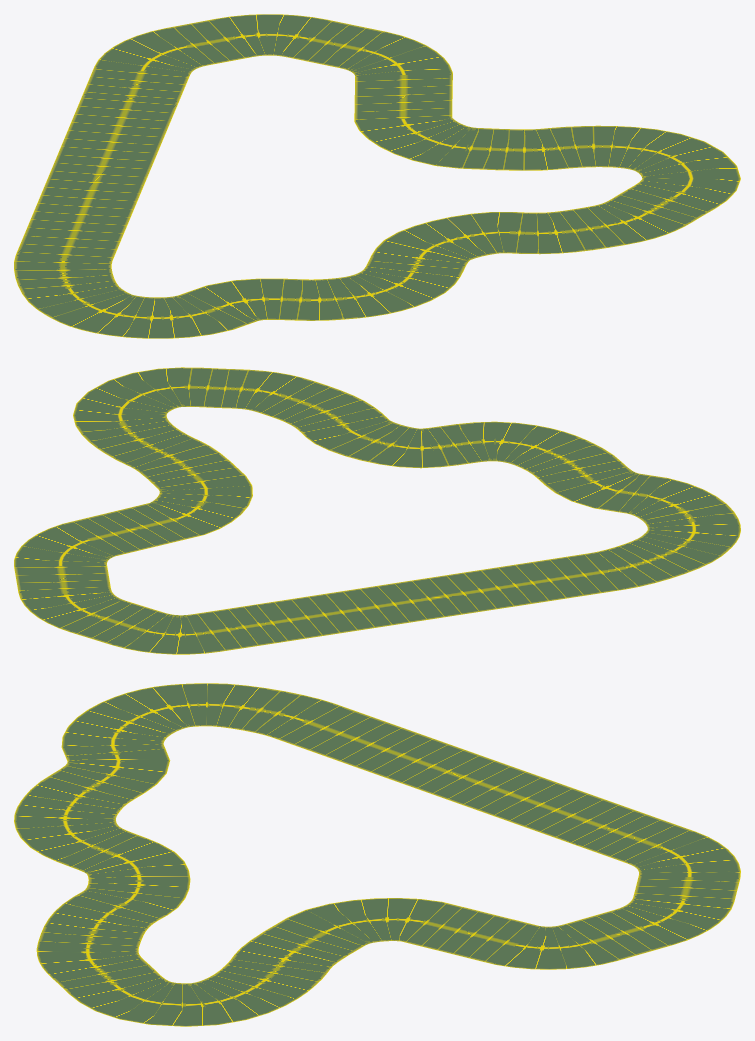
File: rc_04_grd_sdpz.FBX
3 views of the same model, one above another, from view 1: azimuth 30°, elevation 25°; view 2: azimuth 150°, elevation 25°; view 3: azimuth 270°, elevation 25° (orthographic). The views are drawn at different scales.
Visible parts, largest first — view 1: 图形001; view 2: 图形001; view 3: 图形001.
Boxes of the visible parts, x1=… form: 图形001: x1=14, y1=14, x2=740, y2=338; 图形001: x1=14, y1=367, x2=740, y2=654; 图形001: x1=14, y1=683, x2=740, y2=1026.
Bounding box in the file's own units: 68319 × 61087 × 0.1887.
